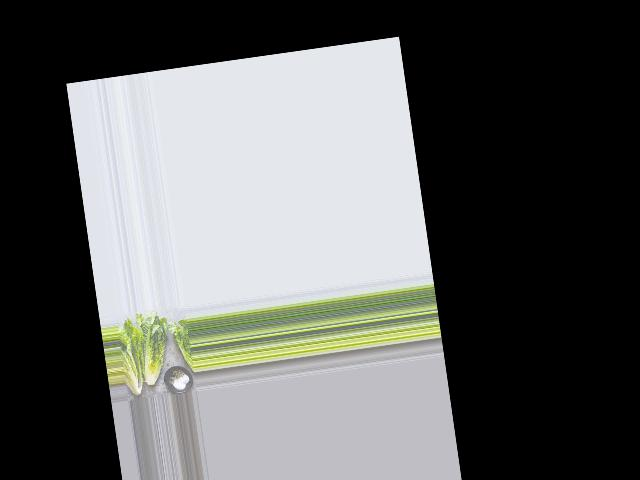lettuce: (118, 322, 148, 400)
